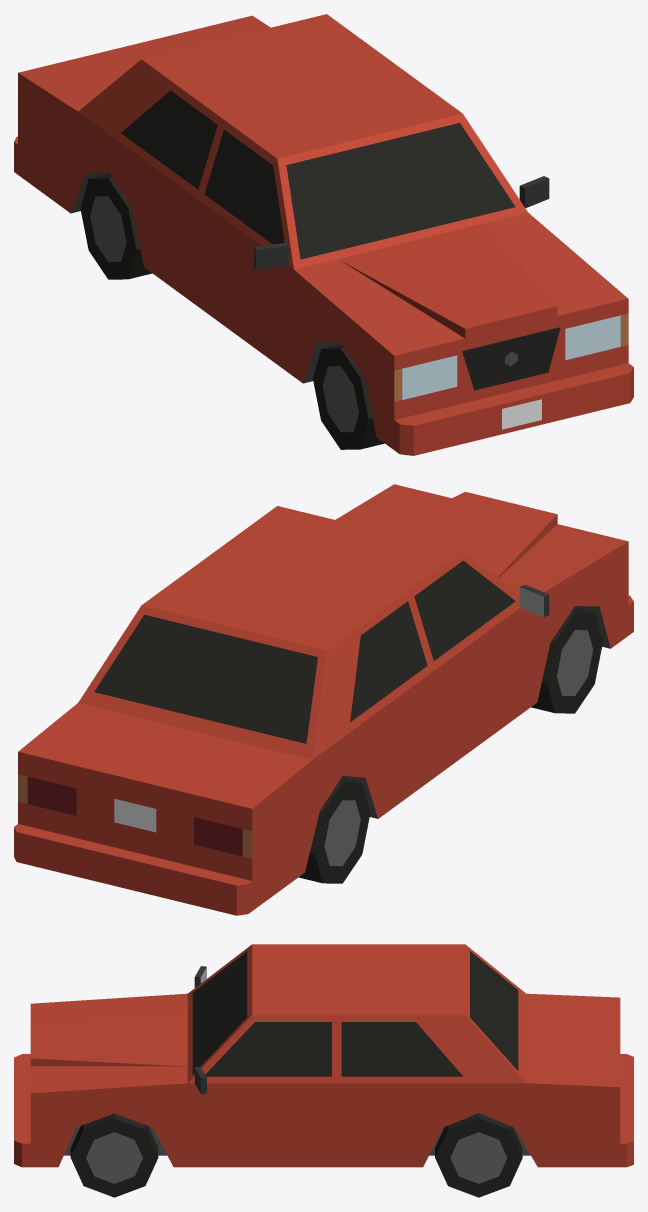
The model's file is Veh_Sedan_02_Red.glb.
3 renders of one model, top to bottom at view 1: azimuth 30°, elevation 25°; view 2: azimuth 150°, elevation 25°; view 3: azimuth 270°, elevation 25°, orthographic. The views are drawn at different scales.
Visible parts, largest first — view 1: Sedan_02_Red, Wheel_FR, Wheel_RR; view 2: Sedan_02_Red, Wheel_FR, Wheel_RR; view 3: Sedan_02_Red, Wheel_FL, Wheel_RL.
Boxes of the visible parts, x1=… form: Sedan_02_Red: x1=14, y1=14, x2=633, y2=455; Wheel_FR: x1=313, y1=344, x2=384, y2=449; Wheel_RR: x1=80, y1=174, x2=152, y2=279; Sedan_02_Red: x1=14, y1=484, x2=633, y2=915; Wheel_FR: x1=531, y1=608, x2=602, y2=713; Wheel_RR: x1=298, y1=778, x2=370, y2=883; Sedan_02_Red: x1=14, y1=944, x2=633, y2=1167; Wheel_FL: x1=70, y1=1113, x2=158, y2=1197; Wheel_RL: x1=435, y1=1113, x2=522, y2=1197.
Bounding box in the file's own units: 1.16 × 0.8379 × 2.72.
1 material, 1 textured.
